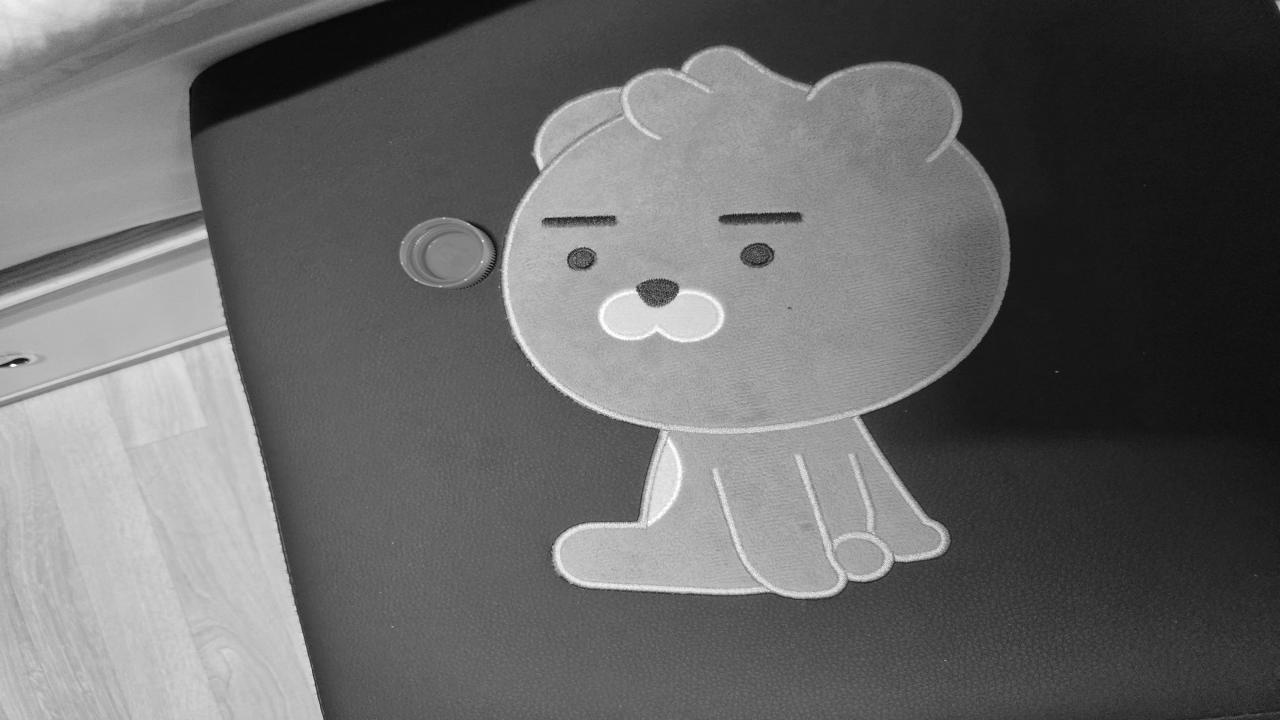bottle_cap: (402, 216, 489, 287)
